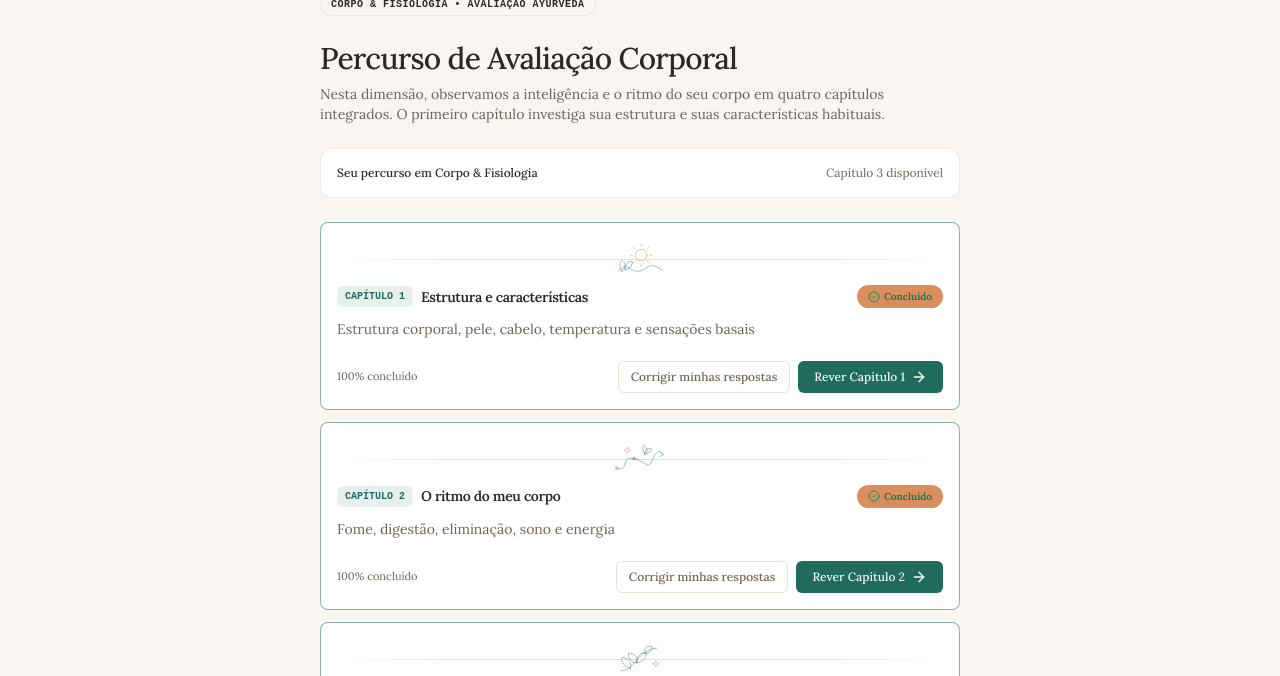
Scenario: M2A1: Integridade da Criação de Revisões do Capítulo 2 › 13. Caminho real de uma nova correção abre preenchido quando a origem válida existe
Check: the heading "Percurso de Avaliação Corporal" is shown, box x1=320 y1=39 x2=737 y2=77
Step 1. Click the button "Corrigir minhas respostas" below "O ritmo do meu corpo" → (702, 576), box x1=616 y1=560 x2=788 y2=592
(page scrolled)
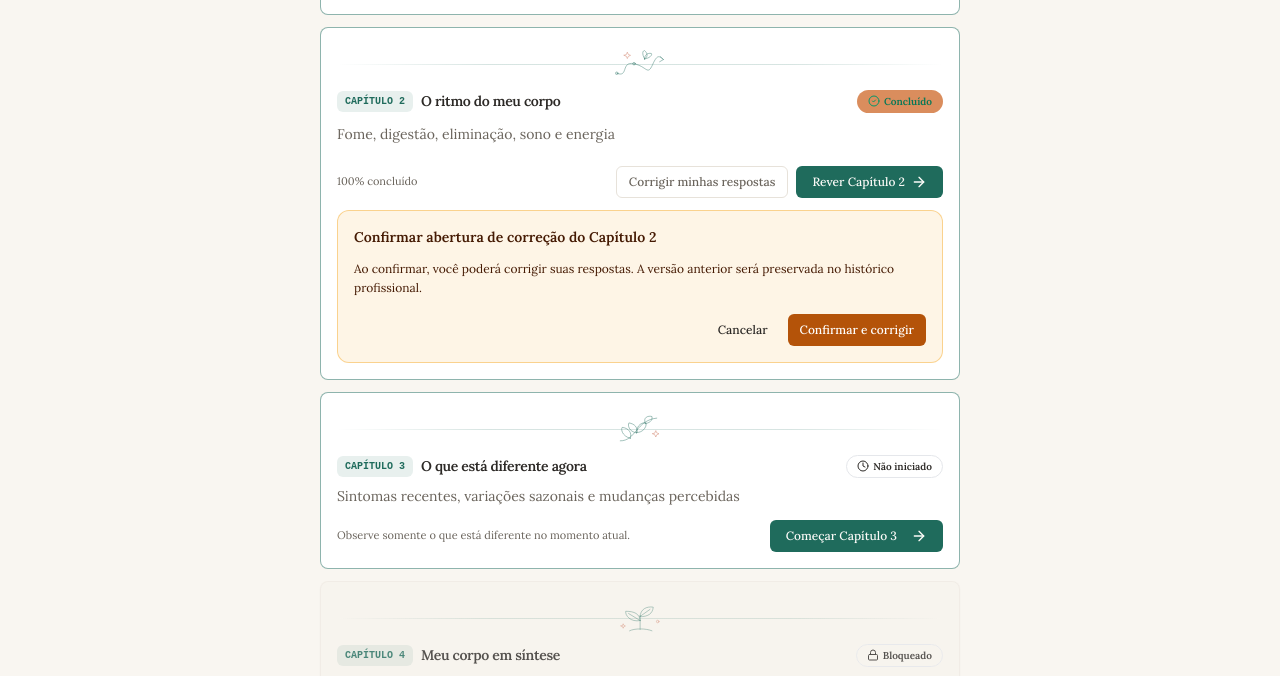
Check: the button "Confirmar e corrigir" is shown
Step 2. Click the button "Confirmar e corrigir" → (857, 330), box x1=788 y1=314 x2=926 y2=346
(page scrolled)
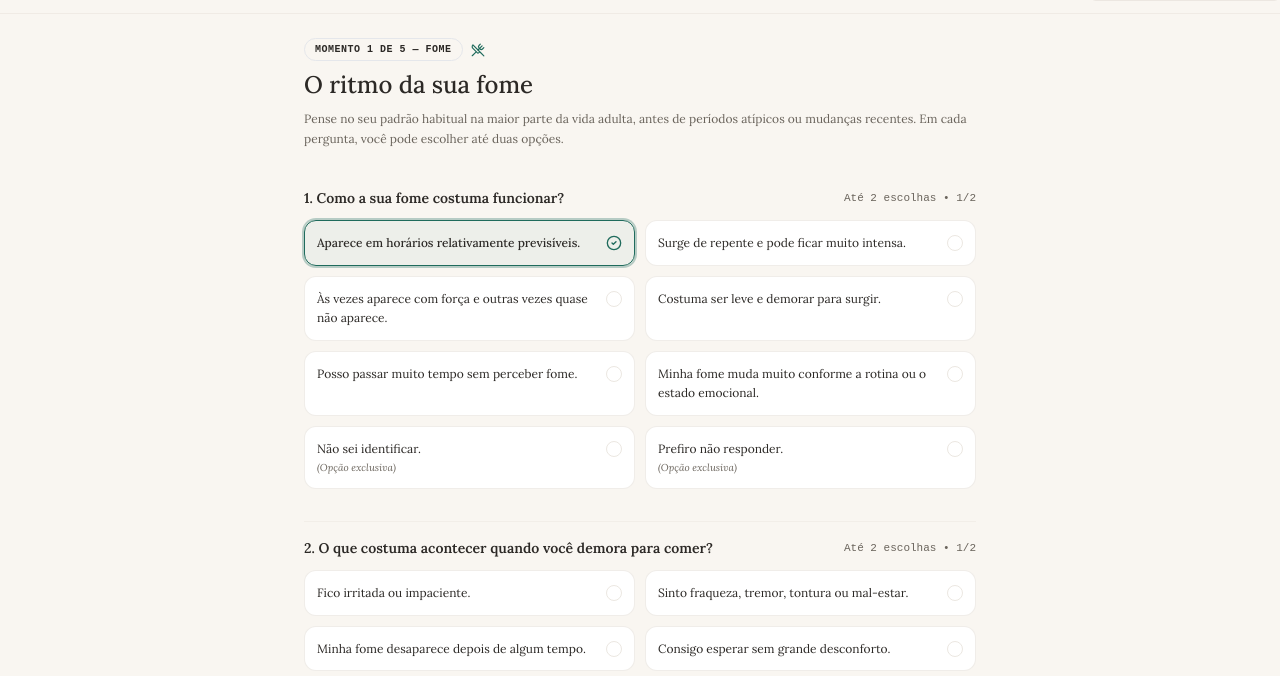
Check: the heading "1. Como a sua fome costuma funcionar?" is shown, box x1=304 y1=188 x2=564 y2=208
Check: the text "Até 2 escolhas • 1/2" in the row of "1. Como a sua fome costuma funcionar?" is shown, box x1=844 y1=189 x2=976 y2=207
Check: the button "Aparece em horários relativamente previsíveis." is shown, box x1=304 y1=220 x2=635 y2=266
